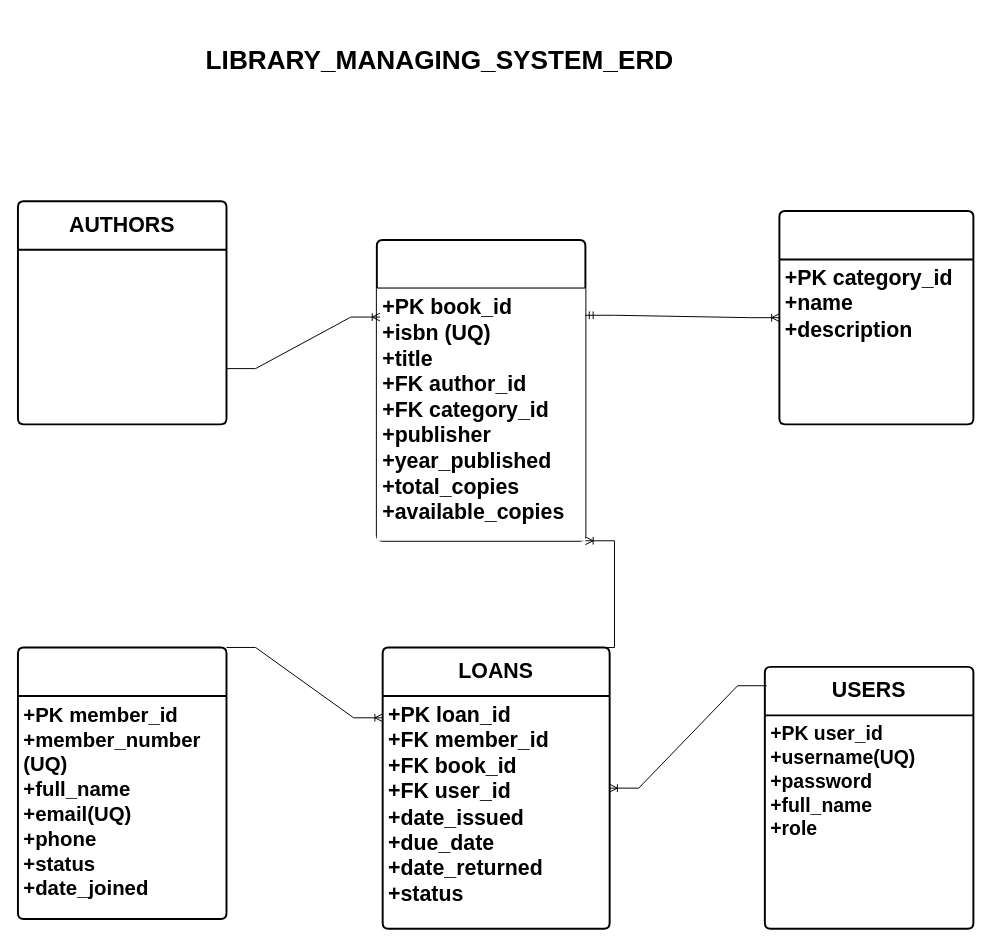
The diagram is 990 pixels wide and 946 high, and some of its shapes have lost their labels. The shapes that lost their labels are listed below. From the top down, each one's box as (x1, y1, x2, y2) in pixels, then its label:
(17, 249, 226, 424): +PK author_id +name +country
(778, 210, 974, 425): CATEGORIES
(375, 239, 586, 541): BOOKS
(16, 646, 227, 920): MEMBERS
